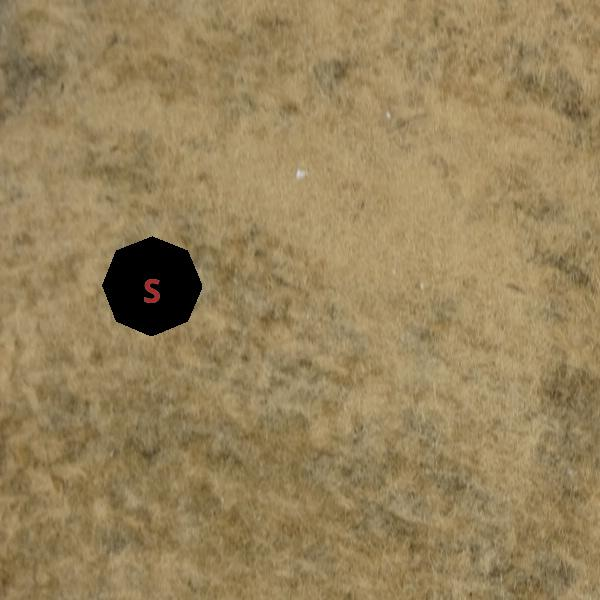Octagon: (102, 236, 202, 336)
